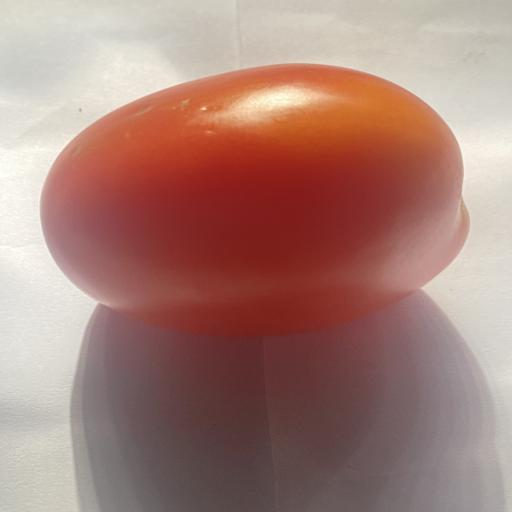ripe: (41, 64, 468, 336)
